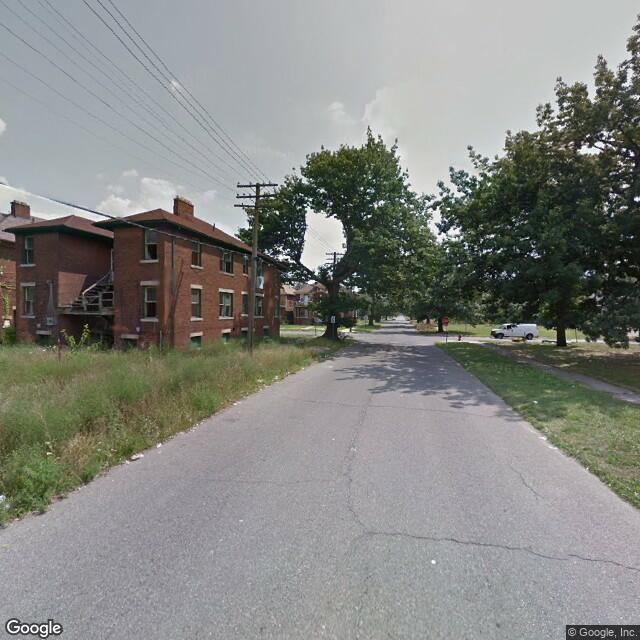litter: (126, 453, 148, 461), (536, 433, 550, 445), (181, 424, 195, 435), (255, 375, 271, 383), (1, 488, 11, 500), (40, 449, 54, 457), (154, 443, 164, 449), (228, 400, 240, 404), (299, 365, 308, 370), (42, 439, 53, 443), (530, 399, 538, 401)
